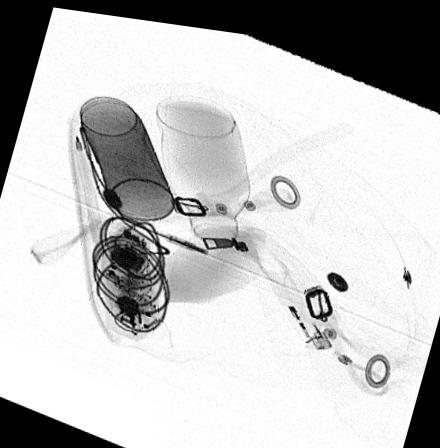Lighter: (265, 260, 334, 340)
